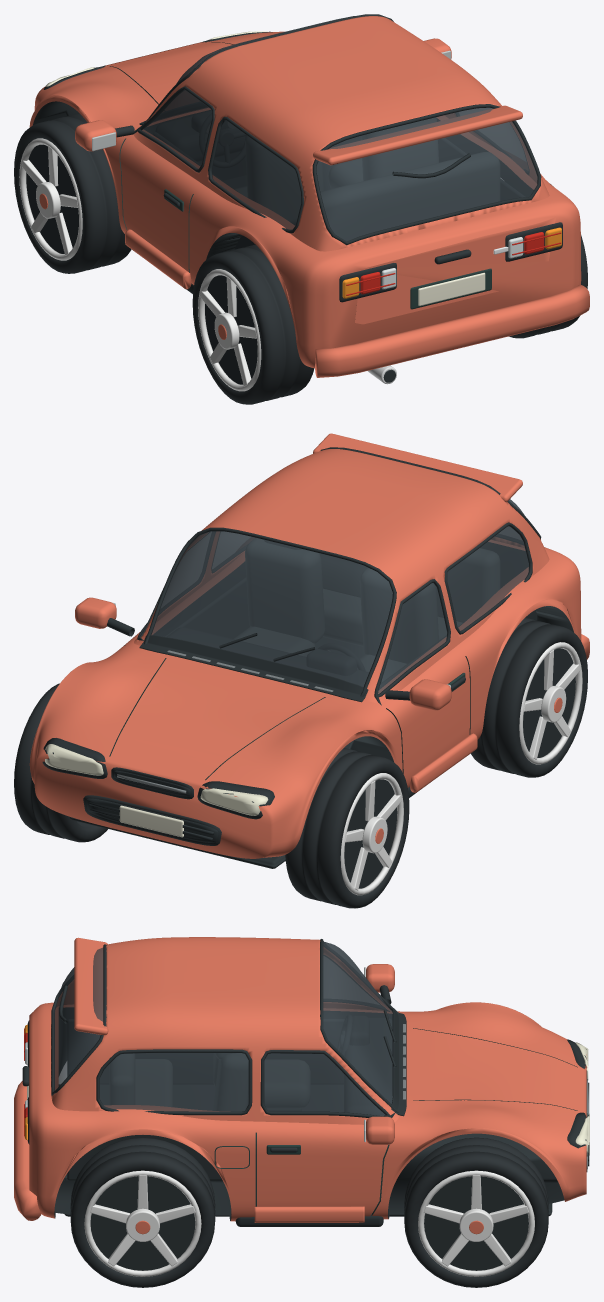
File: tsubasa.fbx
The picture shows the model from 3 angles, top to bottom: view 1: azimuth 30°, elevation 25°; view 2: azimuth 150°, elevation 25°; view 3: azimuth 270°, elevation 25°; orthographic projection. The views are drawn at different scales.
Visible parts, largest first — view 1: Body, Wheel_RL_Mesh, Wheel_FL_Mesh, Wheel_RR_Mesh; view 2: Body, Wheel_FL_Mesh, Wheel_RL_Mesh, Wheel_FR_Mesh; view 3: Body, Wheel_RR_Mesh, Wheel_FR_Mesh.
Part boxes in pixels (x1=…): Body: x1=29, y1=14, x2=589, y2=384; Wheel_RL_Mesh: x1=192, y1=244, x2=314, y2=404; Wheel_FL_Mesh: x1=14, y1=113, x2=131, y2=273; Wheel_RR_Mesh: x1=509, y1=184, x2=587, y2=338; Body: x1=29, y1=433, x2=589, y2=868; Wheel_FL_Mesh: x1=285, y1=748, x2=409, y2=908; Wheel_RL_Mesh: x1=471, y1=617, x2=587, y2=777; Wheel_FR_Mesh: x1=14, y1=683, x2=107, y2=842; Body: x1=14, y1=937, x2=589, y2=1226; Wheel_RR_Mesh: x1=70, y1=1137, x2=215, y2=1287; Wheel_FR_Mesh: x1=404, y1=1137, x2=548, y2=1287.
Bounding box in the file's own units: 230 × 157 × 335.
